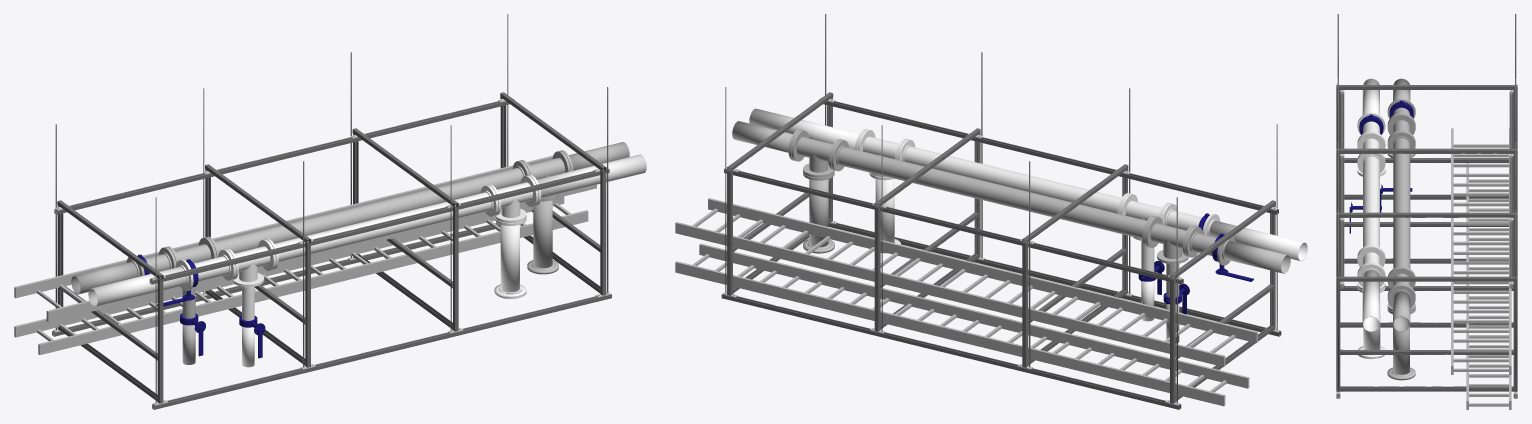
The model's file is Type_1.glb.
3 views of the same model, side by side, from view 1: azimuth 30°, elevation 25°; view 2: azimuth 150°, elevation 25°; view 3: azimuth 270°, elevation 25° (orthographic). The views are drawn at different scales.
Parts seen in each view (by area): view 1: Untitled.119, Untitled.320, Untitled.319, Untitled.290, Untitled.285, Rods, Cylinder.015, Cylinder.008, Cylinder.012, Cylinder.013, Untitled.001, Untitled.013 (+5 smaller); view 2: Untitled.119, Untitled.319, Untitled.320, Untitled.290, Untitled.285, Rods, Cylinder.015, Cylinder.008, Untitled, Untitled.012, Cylinder.009, Cylinder.014 (+4 smaller); view 3: Untitled.119, Untitled.319, Untitled.320, Untitled.290, Rods, Untitled.285, Cylinder.015, Untitled.283, Cylinder.013, Cylinder.014, Untitled.280, Untitled.282 (+16 smaller).
Boxes of the visible parts, left/top/right/bottom form: Untitled.119: left=52, top=92, right=611, bottom=409; Untitled.320: left=14, top=196, right=588, bottom=354; Untitled.319: left=14, top=155, right=596, bottom=322; Untitled.290: left=215, top=168, right=523, bottom=253; Untitled.285: left=274, top=192, right=491, bottom=261; Rods: left=55, top=14, right=608, bottom=402; Cylinder.015: left=537, top=154, right=646, bottom=197; Cylinder.008: left=88, top=266, right=186, bottom=306; Cylinder.012: left=500, top=224, right=519, bottom=292; Cylinder.013: left=533, top=200, right=552, bottom=268; Untitled.001: left=487, top=175, right=538, bottom=223; Untitled.013: left=225, top=239, right=275, bottom=287; Untitled.119: left=721, top=92, right=1281, bottom=409; Untitled.319: left=675, top=198, right=1257, bottom=366; Untitled.320: left=675, top=243, right=1249, bottom=406; Untitled.290: left=838, top=147, right=1146, bottom=238; Untitled.285: left=904, top=146, right=1121, bottom=213; Rods: left=725, top=14, right=1277, bottom=402; Cylinder.015: left=749, top=108, right=858, bottom=149; Cylinder.008: left=1209, top=221, right=1307, bottom=260; Untitled: left=791, top=130, right=842, bottom=177; Untitled.012: left=1145, top=216, right=1195, bottom=264; Cylinder.009: left=1224, top=241, right=1290, bottom=273; Cylinder.014: left=732, top=121, right=792, bottom=152; Untitled.119: left=1336, top=84, right=1517, bottom=398; Untitled.319: left=1451, top=128, right=1511, bottom=374; Untitled.320: left=1466, top=163, right=1511, bottom=409; Untitled.290: left=1393, top=138, right=1410, bottom=268; Rods: left=1337, top=14, right=1516, bottom=395; Untitled.285: left=1363, top=156, right=1379, bottom=247; Cylinder.015: left=1362, top=270, right=1379, bottom=331; Untitled.283: left=1340, top=349, right=1513, bottom=354; Cylinder.013: left=1393, top=324, right=1409, bottom=374; Cylinder.014: left=1393, top=291, right=1410, bottom=331; Untitled.280: left=1344, top=158, right=1508, bottom=162; Untitled.282: left=1340, top=286, right=1513, bottom=290.
Size of the model in its own units: 5.58 by 2.05 by 1.8.
